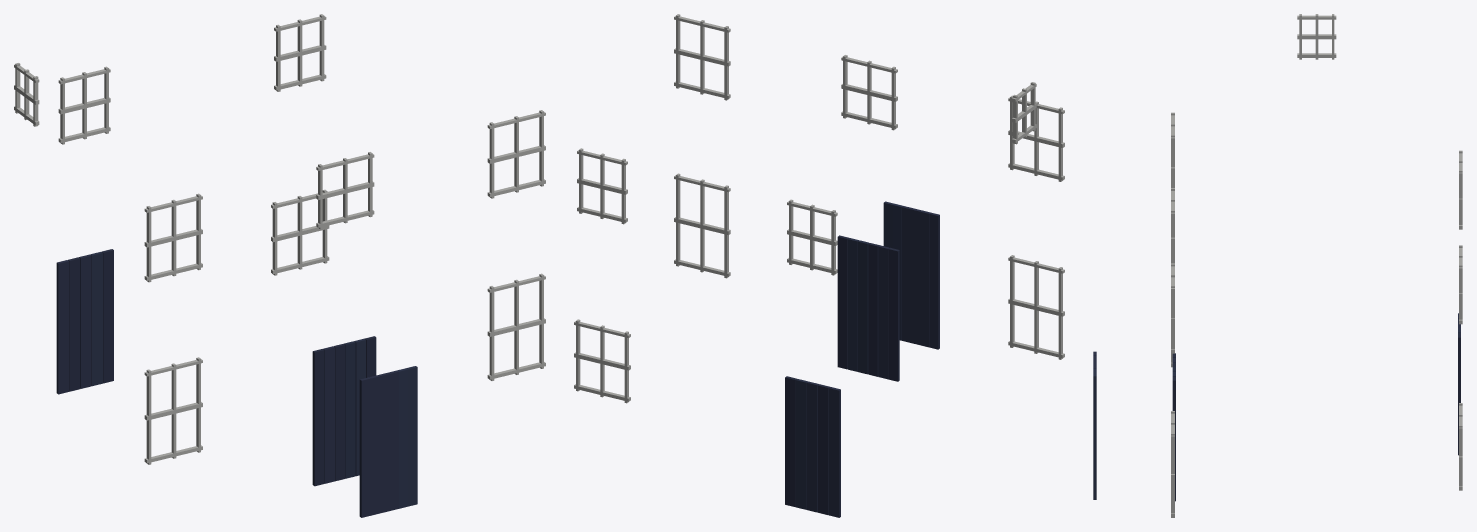
File: SM_Bld_213_Wood.glb
3 renders of one model, left to right at view 1: azimuth 30°, elevation 25°; view 2: azimuth 150°, elevation 25°; view 3: azimuth 270°, elevation 25°, orthographic. The views are drawn at different scales.
Visible parts, largest first — view 1: SM_Bld_213_Wood; view 2: SM_Bld_213_Wood; view 3: SM_Bld_213_Wood.
Part boxes in pixels (bbox=[...]): SM_Bld_213_Wood: bbox=[14, 14, 545, 517]; SM_Bld_213_Wood: bbox=[574, 14, 1064, 517]; SM_Bld_213_Wood: bbox=[1093, 14, 1462, 517].
Size of the model in its own units: 7.05 by 6.25 by 5.69.
